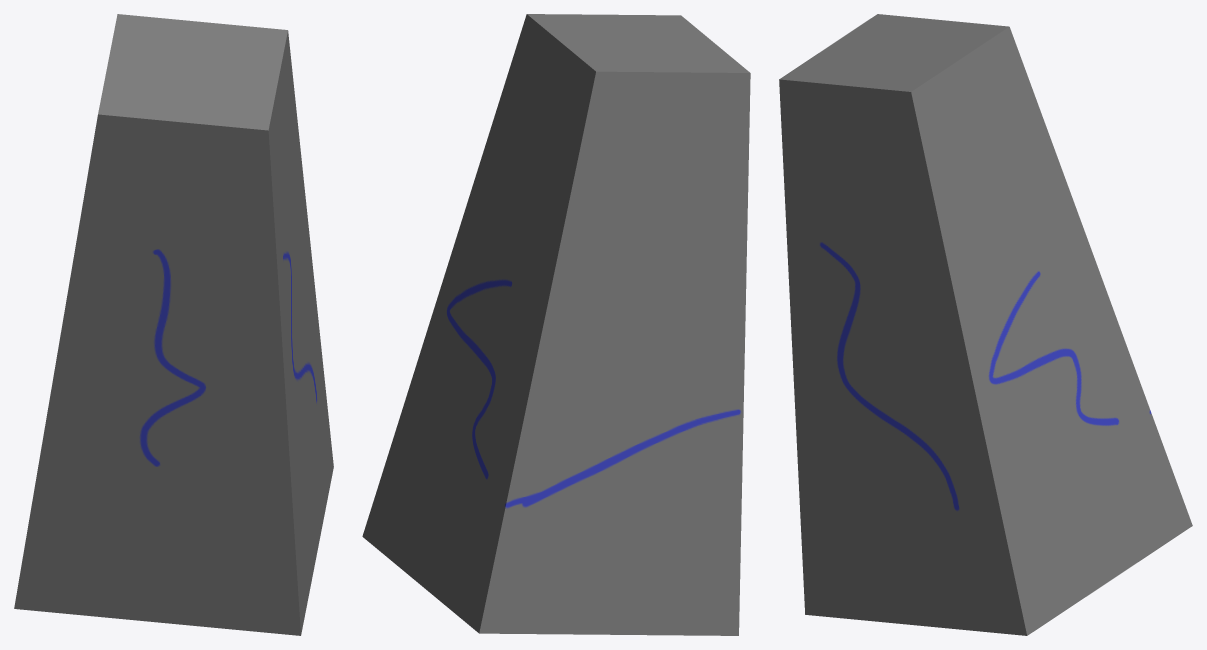
The model's file is asset.glb.
The picture shows the model from 3 angles, left to right: view 1: azimuth 30°, elevation 25°; view 2: azimuth 150°, elevation 25°; view 3: azimuth 270°, elevation 25°; orthographic projection. The views are drawn at different scales.
Parts seen in each view (by area): view 1: node_id3; view 2: node_id3; view 3: node_id3.
Part boxes in pixels (x1,y1,x2,y2): node_id3: (14,14,333,635); node_id3: (362,14,750,635); node_id3: (779,14,1192,635).
Bounding box in the file's own units: 0.3567 × 0.5518 × 0.3757.
1 material, 1 textured.
